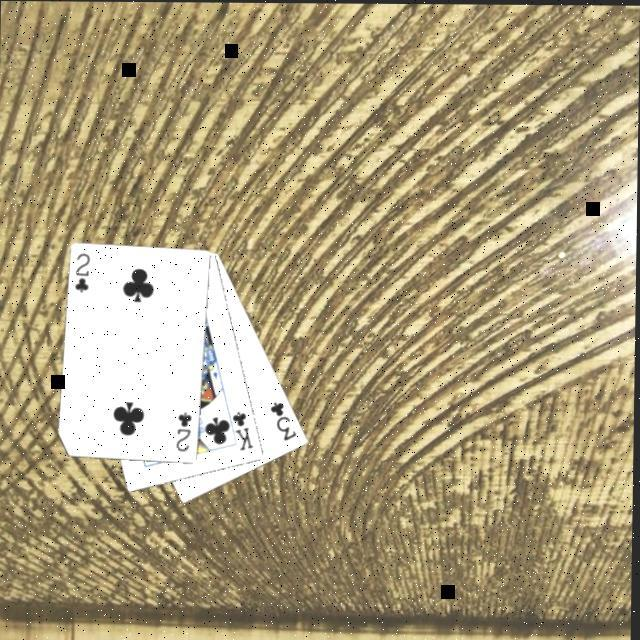2C: (175, 410, 198, 456), (74, 250, 96, 298)
3C: (268, 398, 302, 444)
KC: (226, 408, 260, 454)
